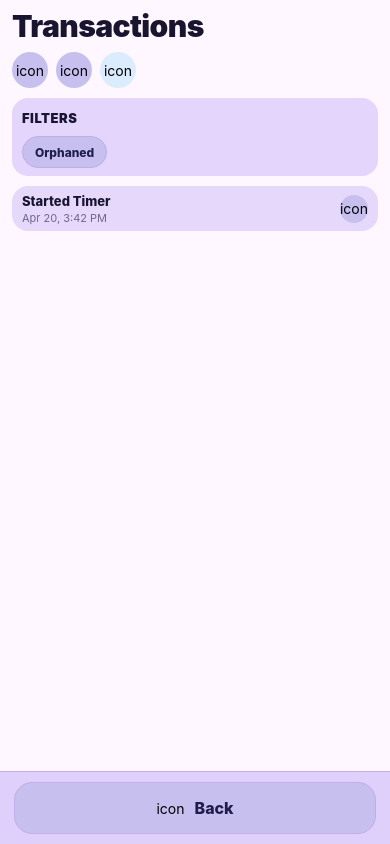
TransactionsScreen › shows timer lifecycle entries as audit-only rows without restore actions
Expected: the text with test id "transaction-summary-0" reads "Started Timer", [22,193,111,209]
Click the button with aria-label "Expand Started Timer".
click(66, 201)  # box [22,192,368,225]
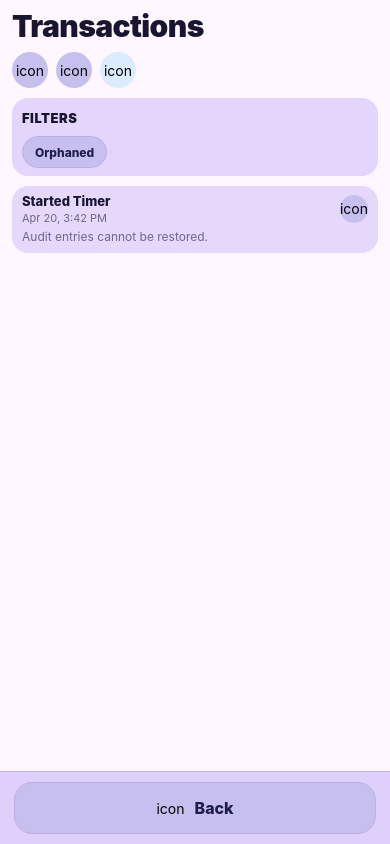
Now the text "Audit entries cannot be restored." is shown, box [22,229,208,244]
